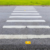zebra: (1, 6, 50, 39)
